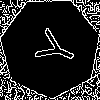Y: (25, 23, 80, 72)
